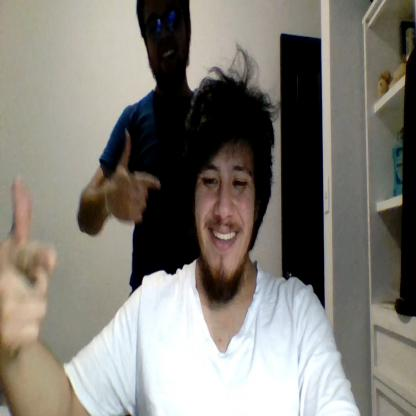G: (110, 126, 160, 226)
